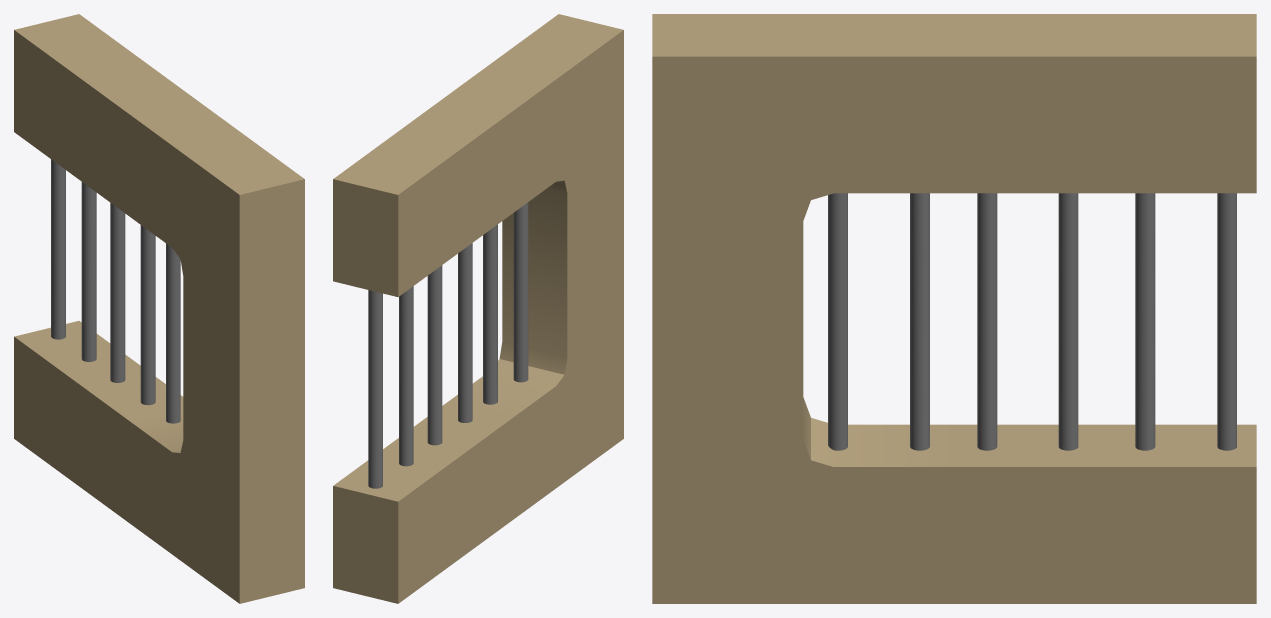
Rendered from SideWindow.fbx.
3 renders of one model, left to right at view 1: azimuth 30°, elevation 25°; view 2: azimuth 150°, elevation 25°; view 3: azimuth 270°, elevation 25°, orthographic. The views are drawn at different scales.
Parts seen in each view (by area): view 1: Box001; view 2: Box001; view 3: Box001.
Part boxes in pixels (x1=…): Box001: x1=14, y1=14, x2=304, y2=603; Box001: x1=333, y1=14, x2=623, y2=603; Box001: x1=652, y1=14, x2=1256, y2=603.
Size of the model in its own units: 50 by 300 by 300.
